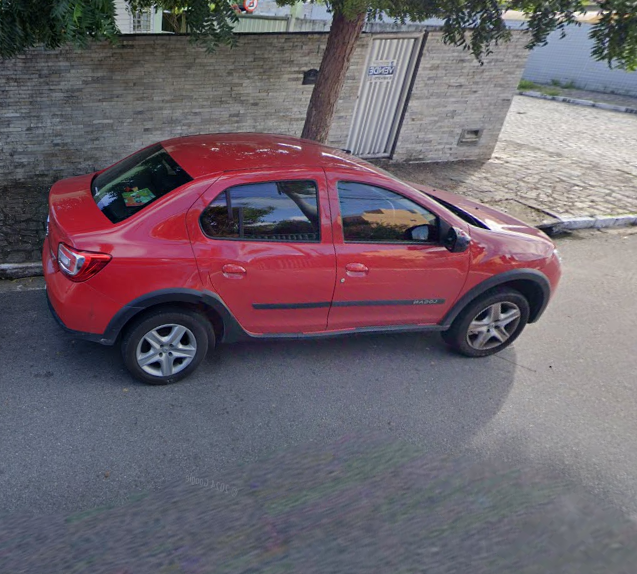car: (40, 127, 564, 388)
